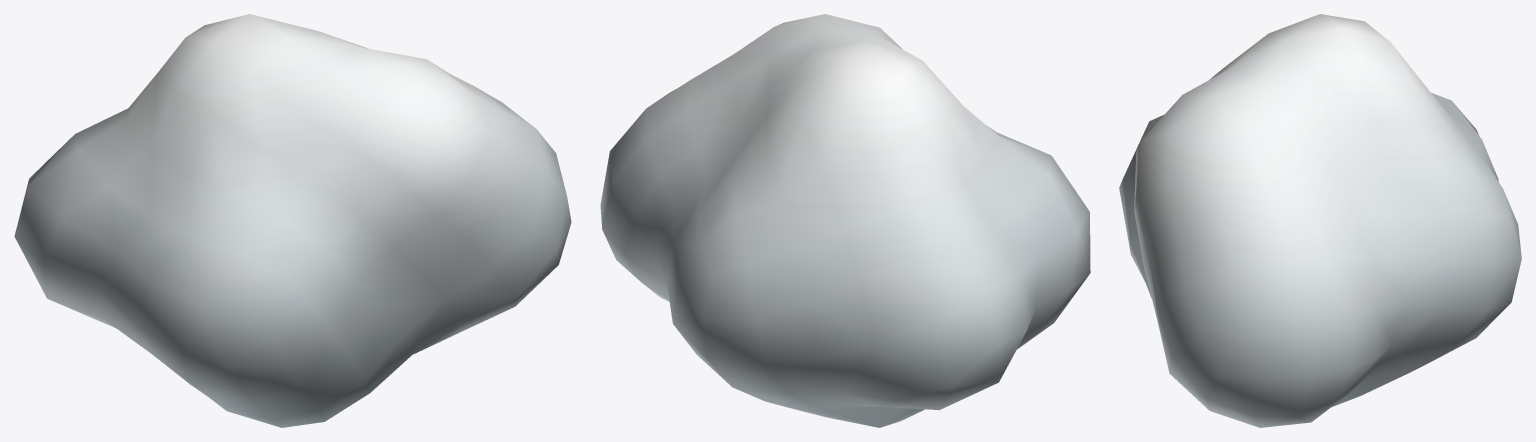
Rendered from cloud_small.glb.
3 views of the same model, side by side, from view 1: azimuth 30°, elevation 25°; view 2: azimuth 150°, elevation 25°; view 3: azimuth 270°, elevation 25° (orthographic). The views are drawn at different scales.
Parts seen in each view (by area): view 1: cloud_small; view 2: cloud_small; view 3: cloud_small.
Part boxes in pixels (bbox=[...]): cloud_small: bbox=[14, 14, 571, 427]; cloud_small: bbox=[600, 14, 1090, 427]; cloud_small: bbox=[1119, 14, 1521, 427].
Size of the model in its own units: 2.34 by 1.84 by 1.79.
1 material, 1 textured.
